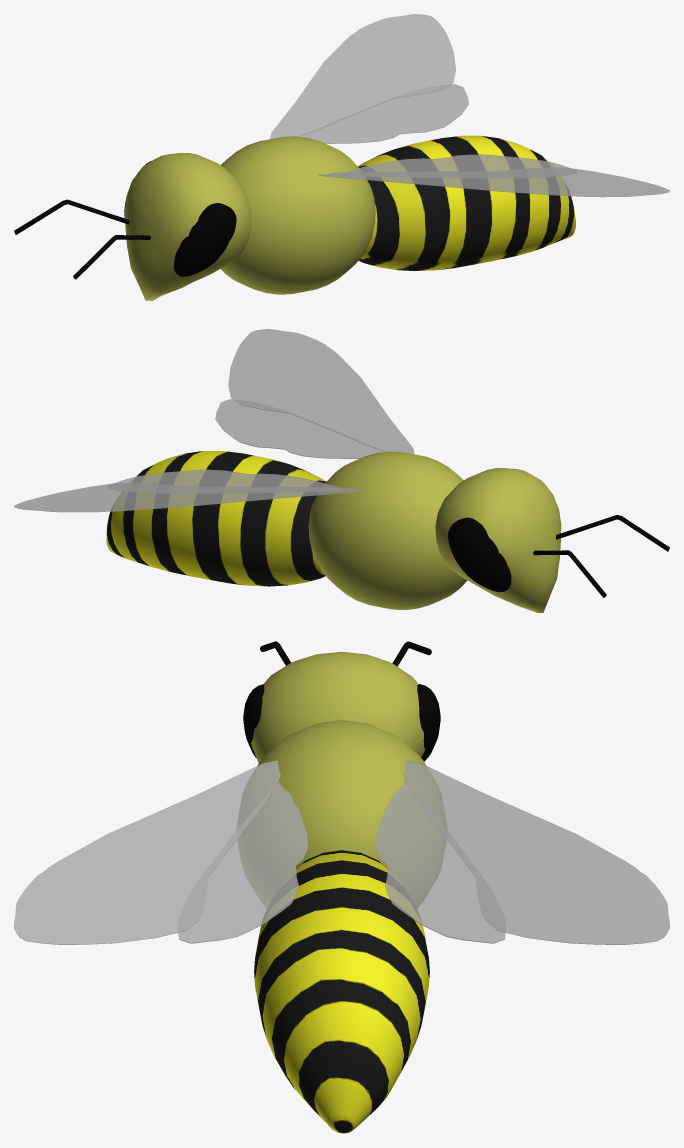
The model's file is bee.fbx.
3 renders of one model, top to bottom at view 1: azimuth 30°, elevation 25°; view 2: azimuth 150°, elevation 25°; view 3: azimuth 270°, elevation 25°, orthographic. The views are drawn at different scales.
Parts seen in each view (by area): view 1: abdom, torso, forewing, head, hind_wing, L_eye, R_antenna, L_antenna; view 2: abdom, torso, forewing, head, hind_wing, R_eye, L_antenna, R_antenna; view 3: forewing, abdom, torso, hind_wing, head, R_eye, L_eye.
Part boxes in pixels (left/top/right/bottom): abdom: left=358, top=135, right=575, bottom=270; torso: left=220, top=136, right=375, bottom=294; forewing: left=270, top=14, right=669, bottom=197; head: left=124, top=153, right=251, bottom=300; hind_wing: left=300, top=84, right=570, bottom=172; L_eye: left=174, top=203, right=236, bottom=276; R_antenna: left=14, top=199, right=129, bottom=234; L_antenna: left=73, top=235, right=150, bottom=279; abdom: left=106, top=451, right=326, bottom=586; torso: left=308, top=451, right=467, bottom=609; forewing: left=14, top=329, right=414, bottom=512; head: left=435, top=468, right=561, bottom=612; hind_wing: left=114, top=399, right=383, bottom=487; R_eye: left=448, top=517, right=511, bottom=592; L_antenna: left=556, top=515, right=669, bottom=551; R_antenna: left=533, top=550, right=606, bottom=597; forewing: left=14, top=760, right=669, bottom=944; abdom: left=254, top=850, right=429, bottom=1133; torso: left=237, top=720, right=446, bottom=907; hind_wing: left=178, top=782, right=505, bottom=943; head: left=251, top=651, right=425, bottom=762; R_eye: left=417, top=684, right=440, bottom=761; L_eye: left=243, top=684, right=264, bottom=757.
Bounding box in the file's own units: 5.58 × 1.72 × 4.48.
Materials: 4 (1 with a texture image).
